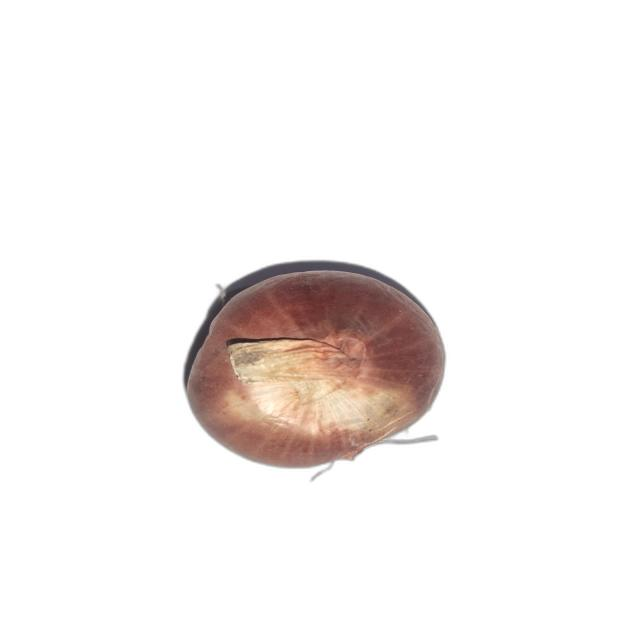onion: (185, 270, 446, 471)
